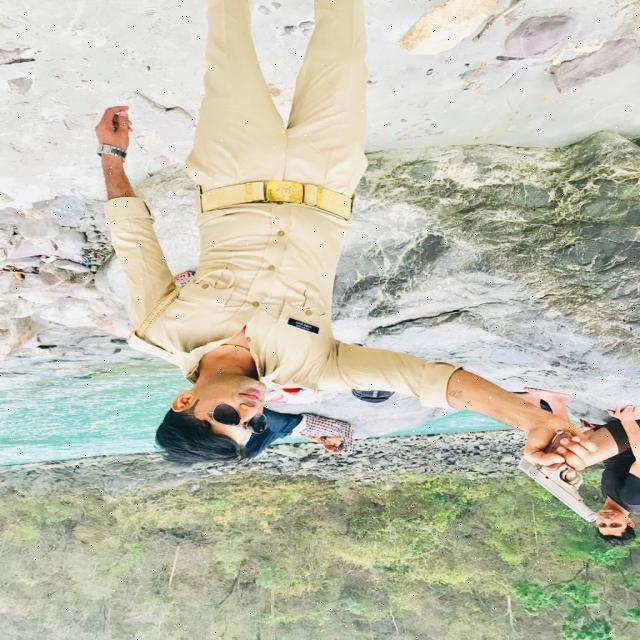gun: (505, 421, 610, 528)
